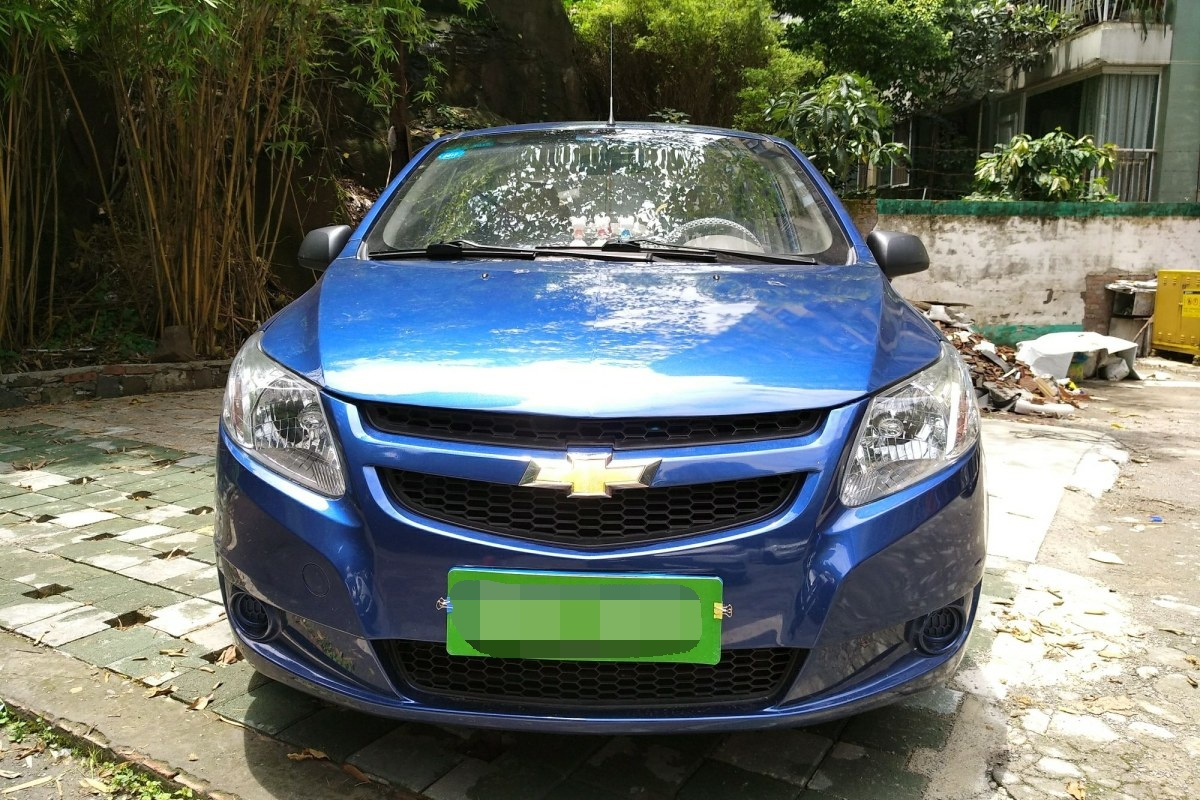family sedan: (224, 89, 991, 722)
